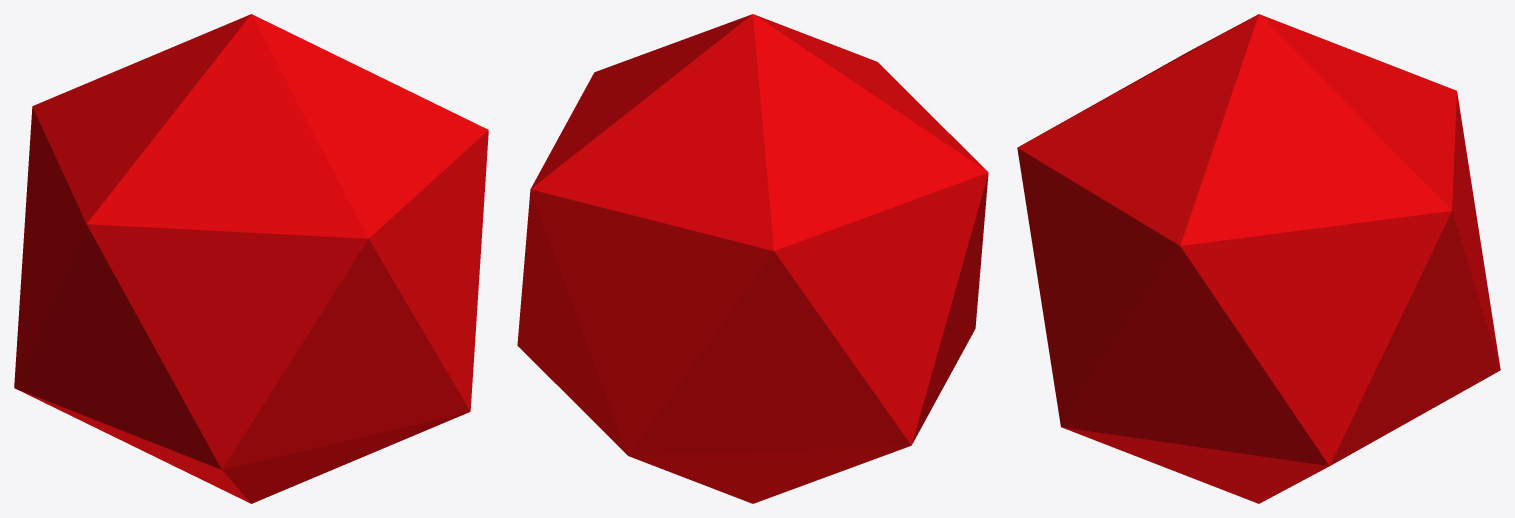
File: 20_dice.fbx
3 views of the same model, side by side, from view 1: azimuth 30°, elevation 25°; view 2: azimuth 150°, elevation 25°; view 3: azimuth 270°, elevation 25° (orthographic).
Visible parts, largest first — view 1: Icosphere; view 2: Icosphere; view 3: Icosphere.
Boxes of the visible parts, x1,y1,x2,y2 form: Icosphere: (14,14,488,503); Icosphere: (517,14,988,503); Icosphere: (1017,14,1500,503).
Size of the model in its own units: 171 by 200 by 179.
